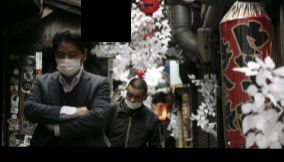mask_weared_incorrect: (123, 89, 142, 110)
with_mask: (53, 47, 81, 77)
